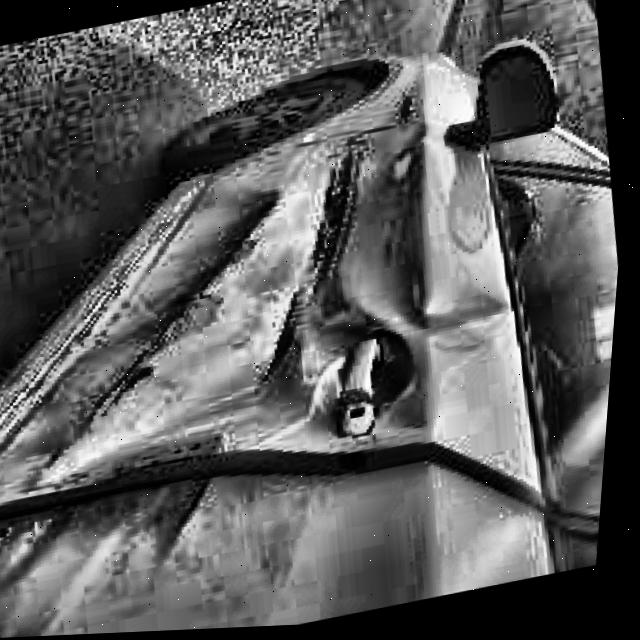door_dent: (0, 106, 537, 560)
